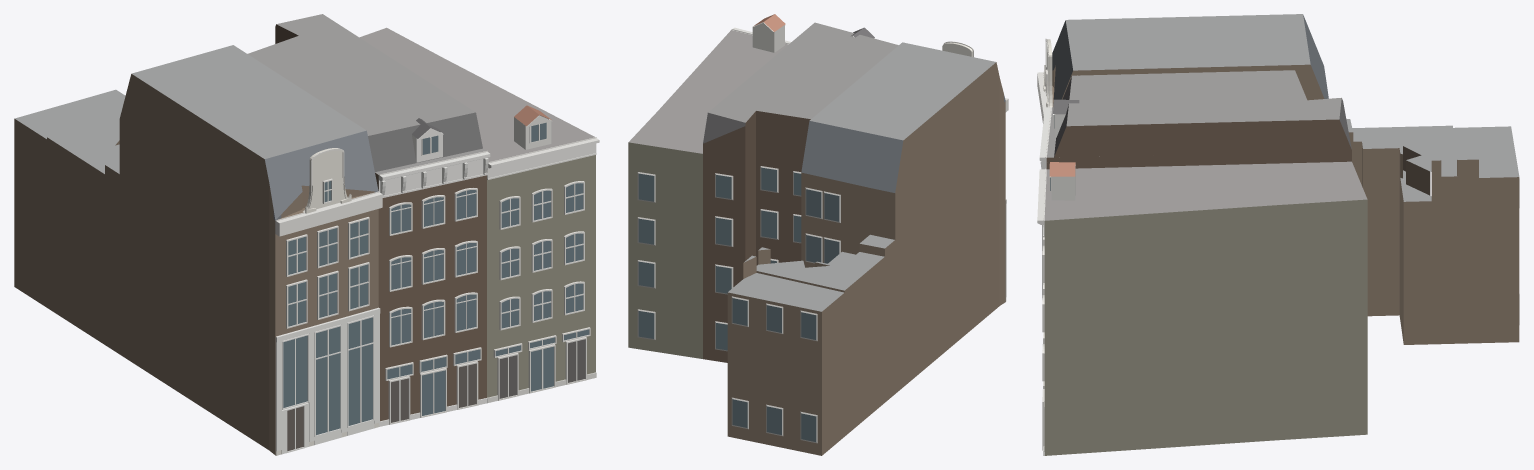
The model's file is chunk-face-achterburgwal-175-179.glb.
The picture shows the model from 3 angles, left to right: view 1: azimuth 30°, elevation 25°; view 2: azimuth 150°, elevation 25°; view 3: azimuth 270°, elevation 25°; orthographic projection. The views are drawn at different scales.
Visible parts, largest first — view 1: face-achterburgwal-175-179; view 2: face-achterburgwal-175-179; view 3: face-achterburgwal-175-179.
Boxes of the visible parts, x1,y1,x2,y2 form: face-achterburgwal-175-179: [14, 14, 599, 455]; face-achterburgwal-175-179: [628, 14, 1008, 455]; face-achterburgwal-175-179: [1037, 14, 1519, 455].
Bounding box in the file's own units: 21.5 × 17.41 × 26.66.
